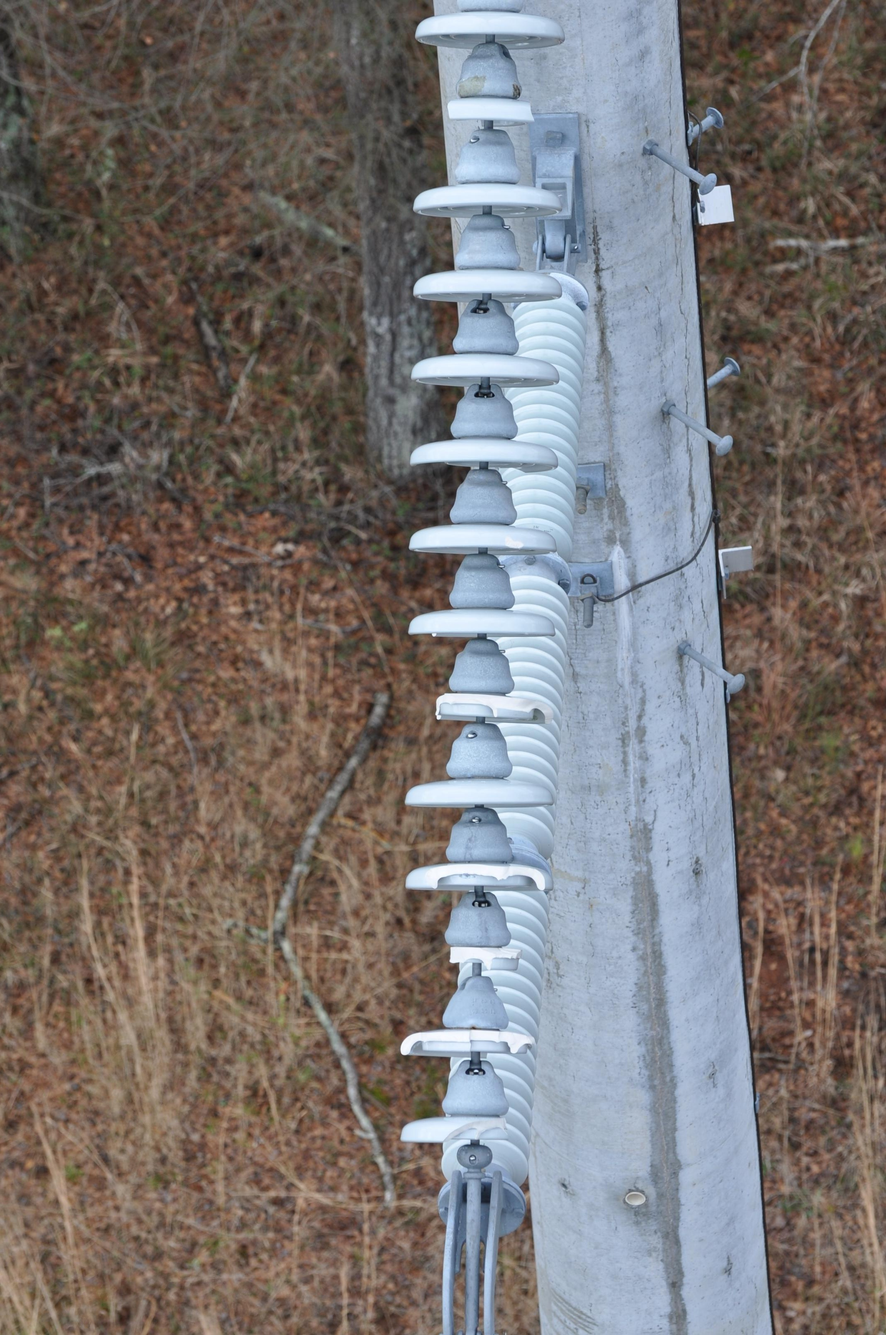damaged: (406, 846, 551, 904), (399, 1017, 534, 1064), (431, 682, 553, 730), (439, 929, 523, 980)
insulator: (401, 10, 560, 1148), (443, 279, 583, 1168)
